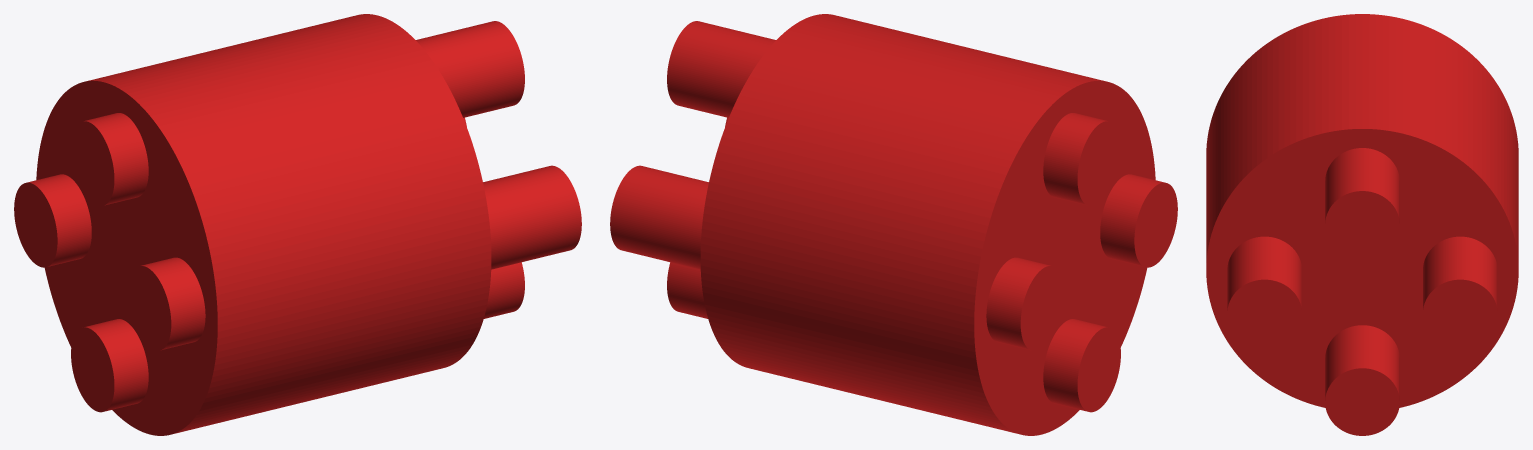
File: 2_colored.obj
The picture shows the model from 3 angles, left to right: view 1: azimuth 30°, elevation 25°; view 2: azimuth 150°, elevation 25°; view 3: azimuth 270°, elevation 25°; orthographic projection. The views are drawn at different scales.
Bounding box in the file's own units: 0.03 × 0.023 × 0.023.
